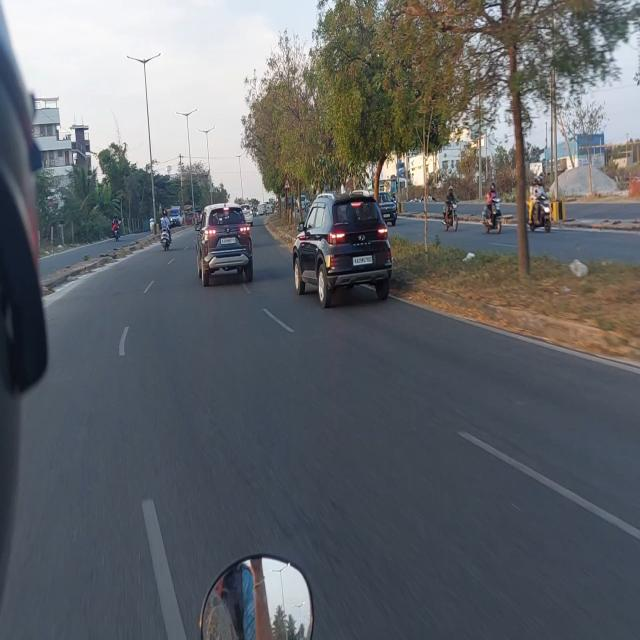bien_cam: (284, 178, 290, 190)
